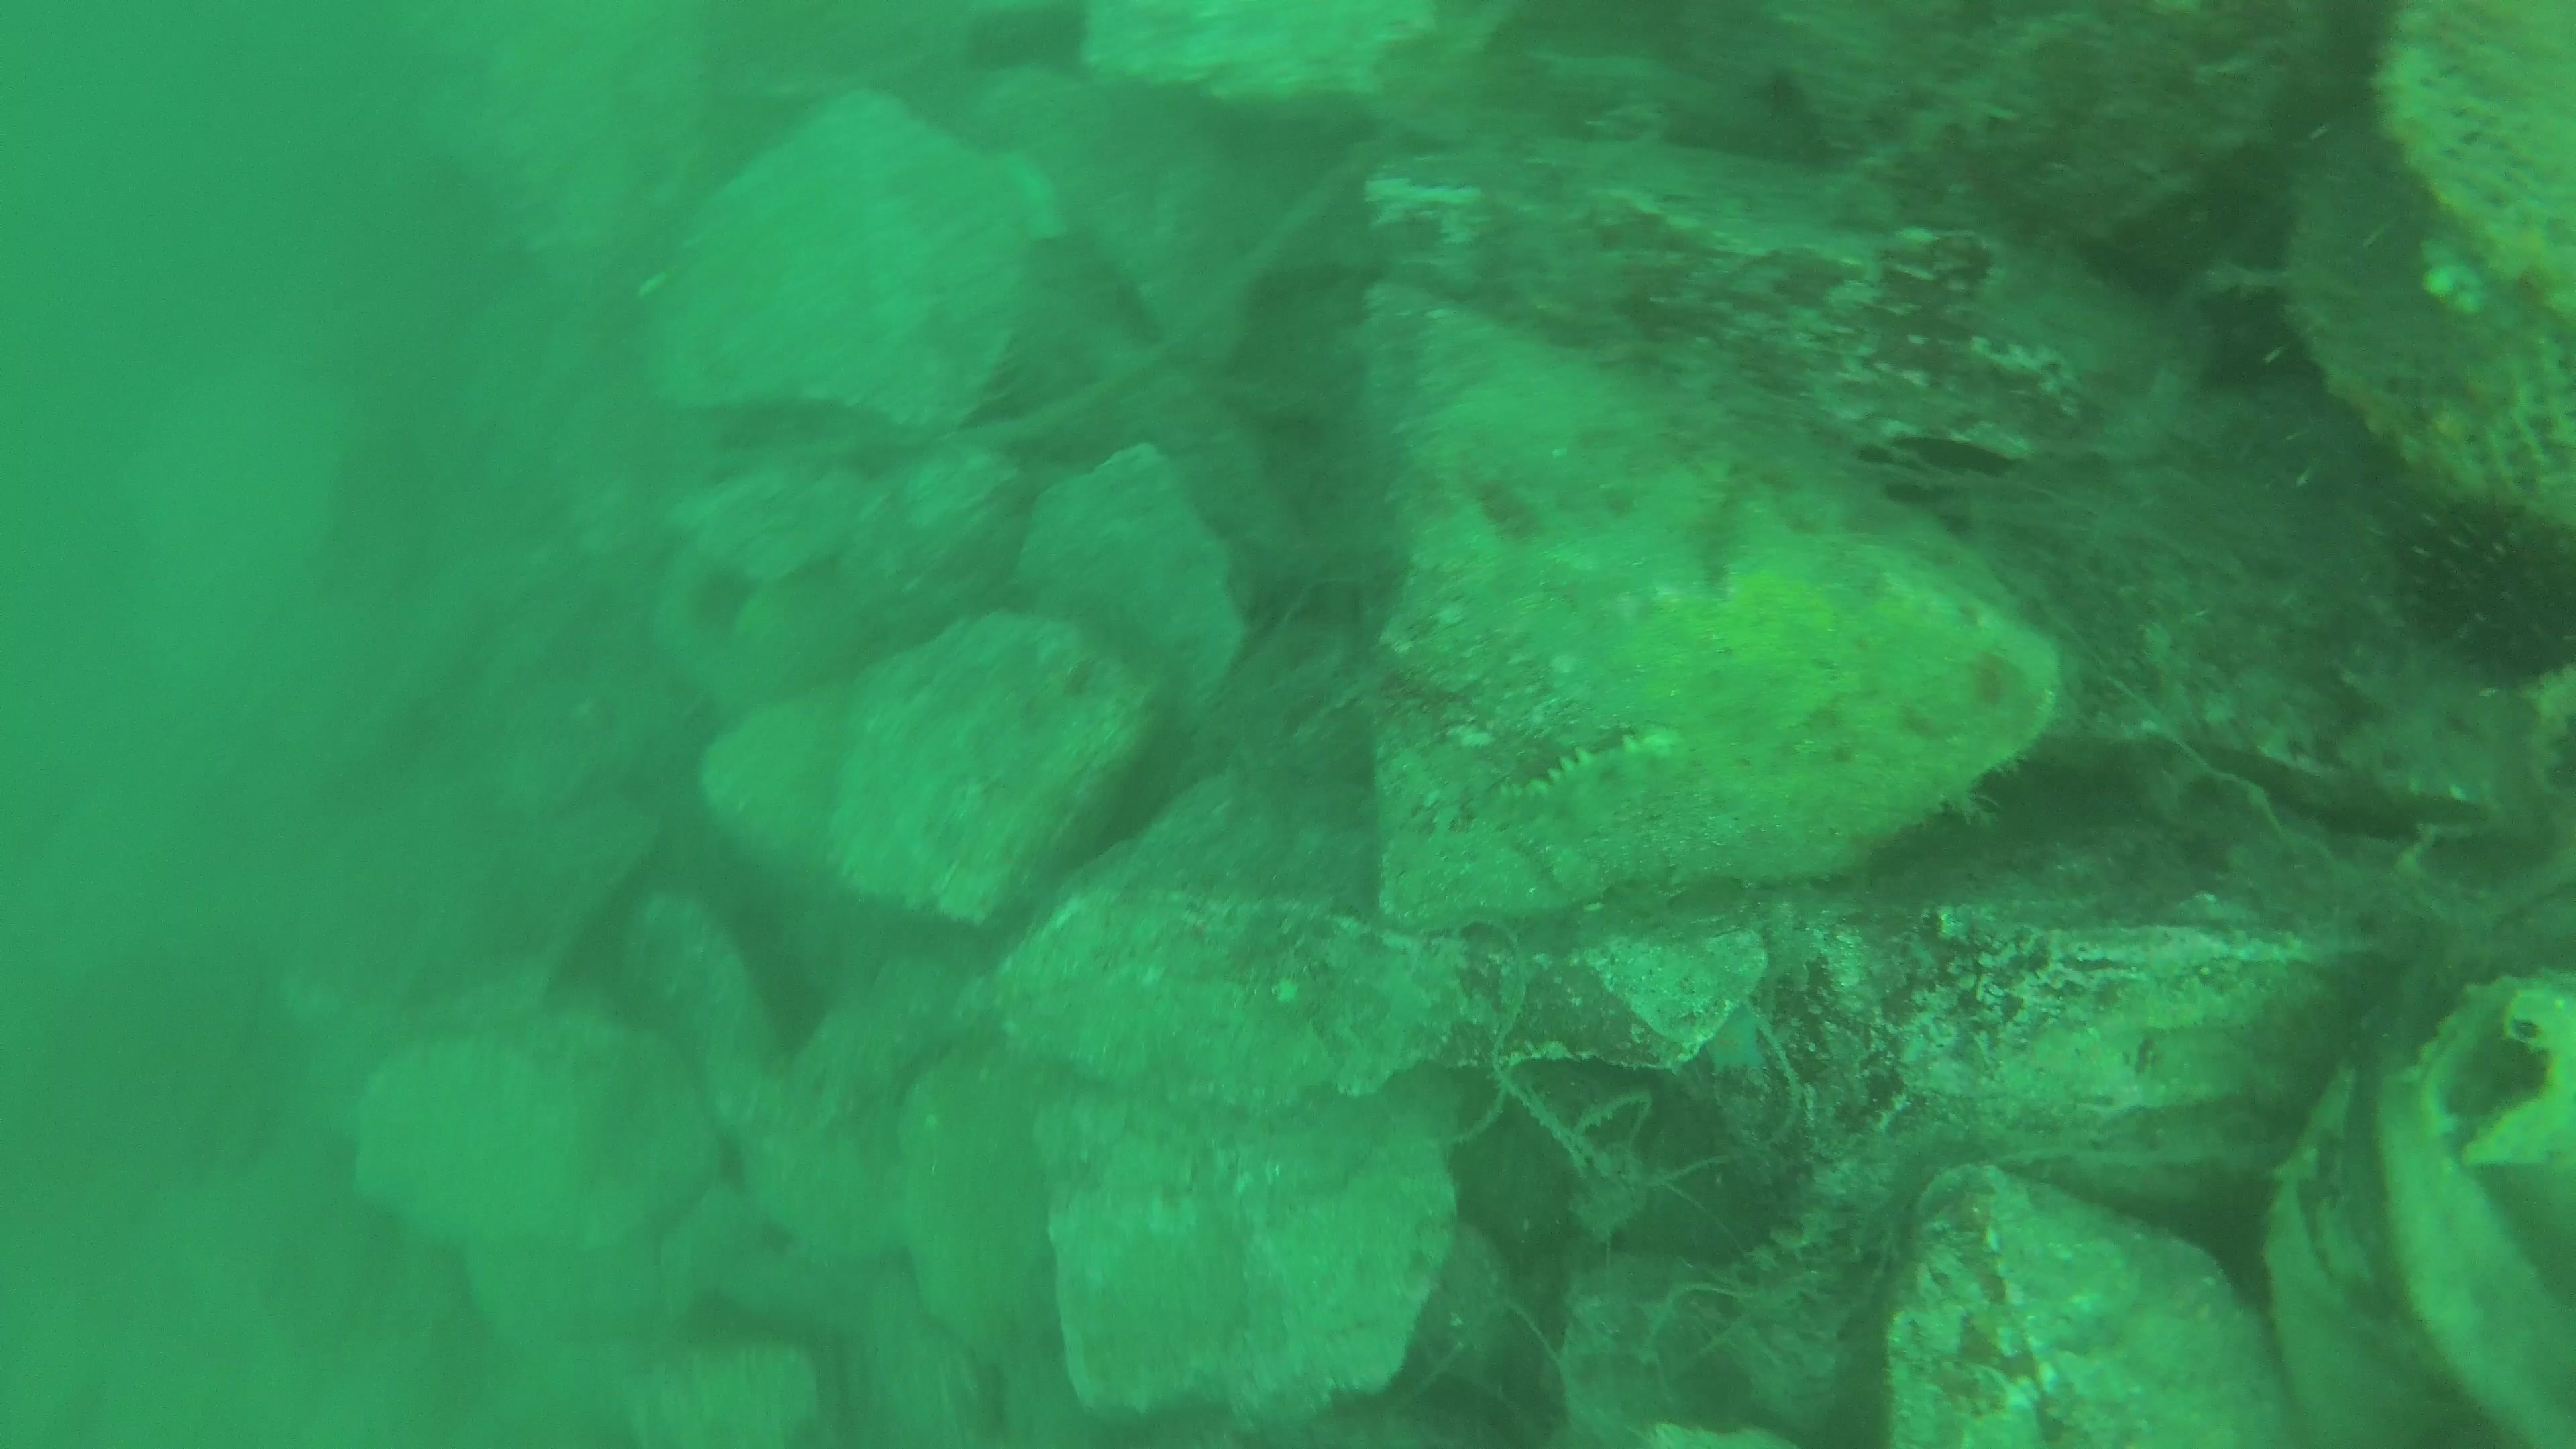echinus: (2388, 478, 2574, 688)
holothurian: (1507, 727, 1698, 892)
